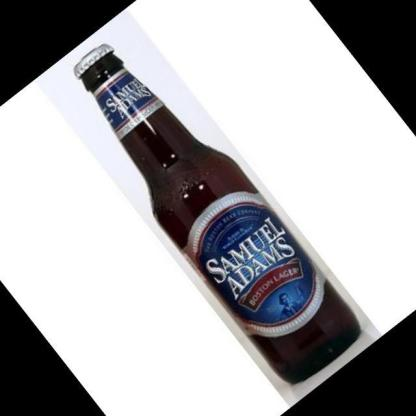Can: (73, 43, 362, 384)
